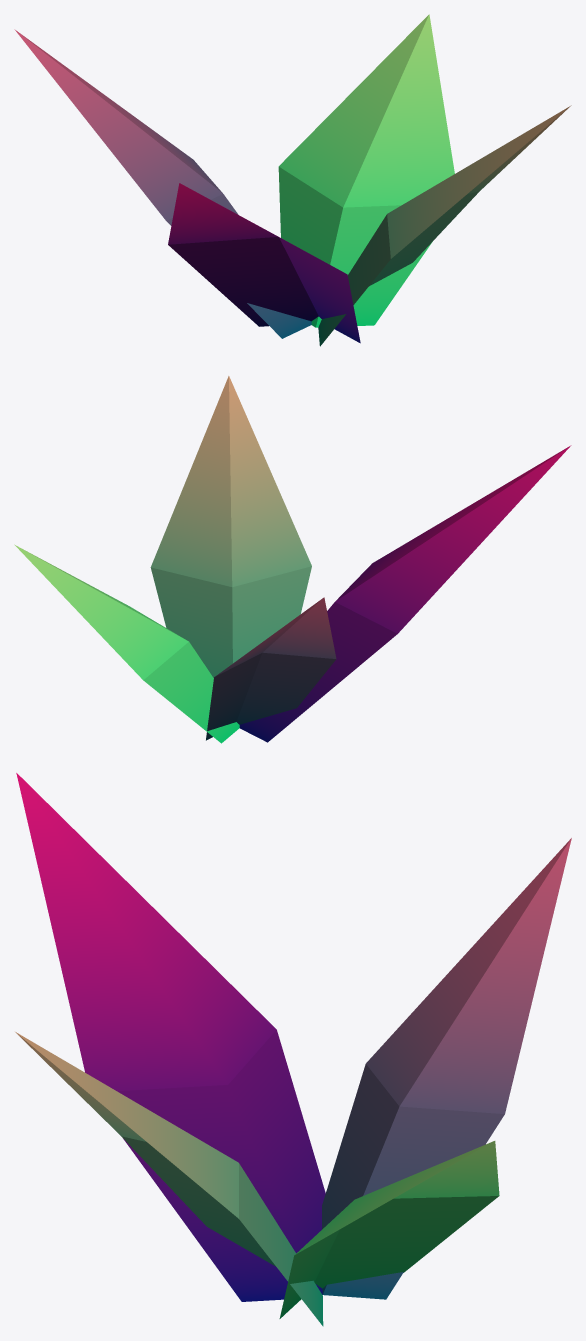
Rendered from grass_clump3_v2.fbx.
The picture shows the model from 3 angles, top to bottom: view 1: azimuth 30°, elevation 25°; view 2: azimuth 150°, elevation 25°; view 3: azimuth 270°, elevation 25°; orthographic projection. The views are drawn at different scales.
Parts seen in each view (by area): view 1: grass_clump3_v2; view 2: grass_clump3_v2; view 3: grass_clump3_v2.
Part boxes in pixels (box(x1,y1,x2,y2)): grass_clump3_v2: box(14, 14, 571, 346); grass_clump3_v2: box(14, 376, 571, 743); grass_clump3_v2: box(15, 773, 571, 1326).
Bounding box in the file's own units: 43.27 × 27.42 × 38.01.
